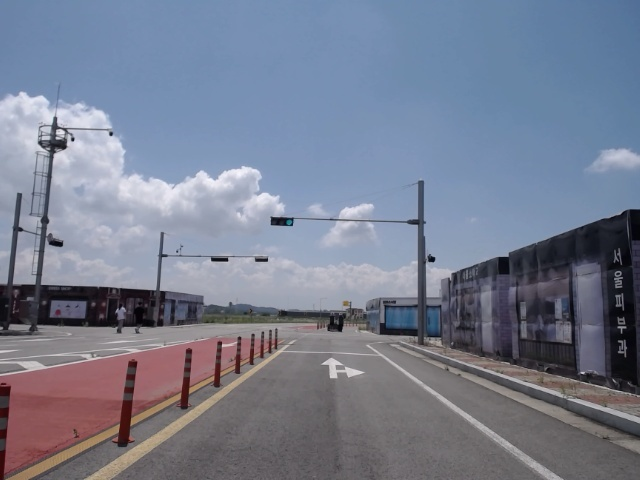green_3: (270, 217, 293, 227)
